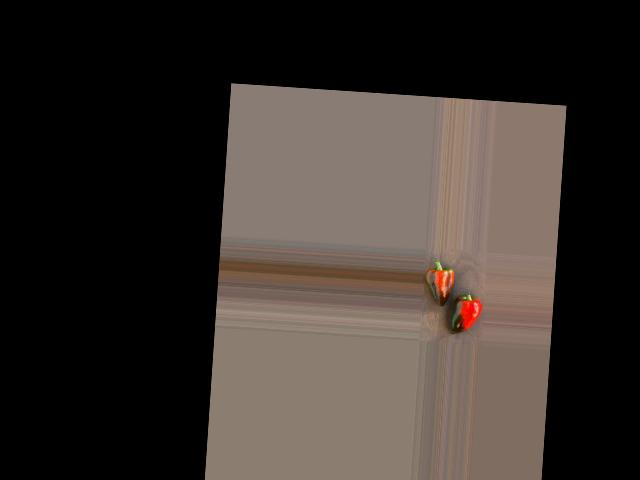bell_pepper: (447, 278, 485, 338)
